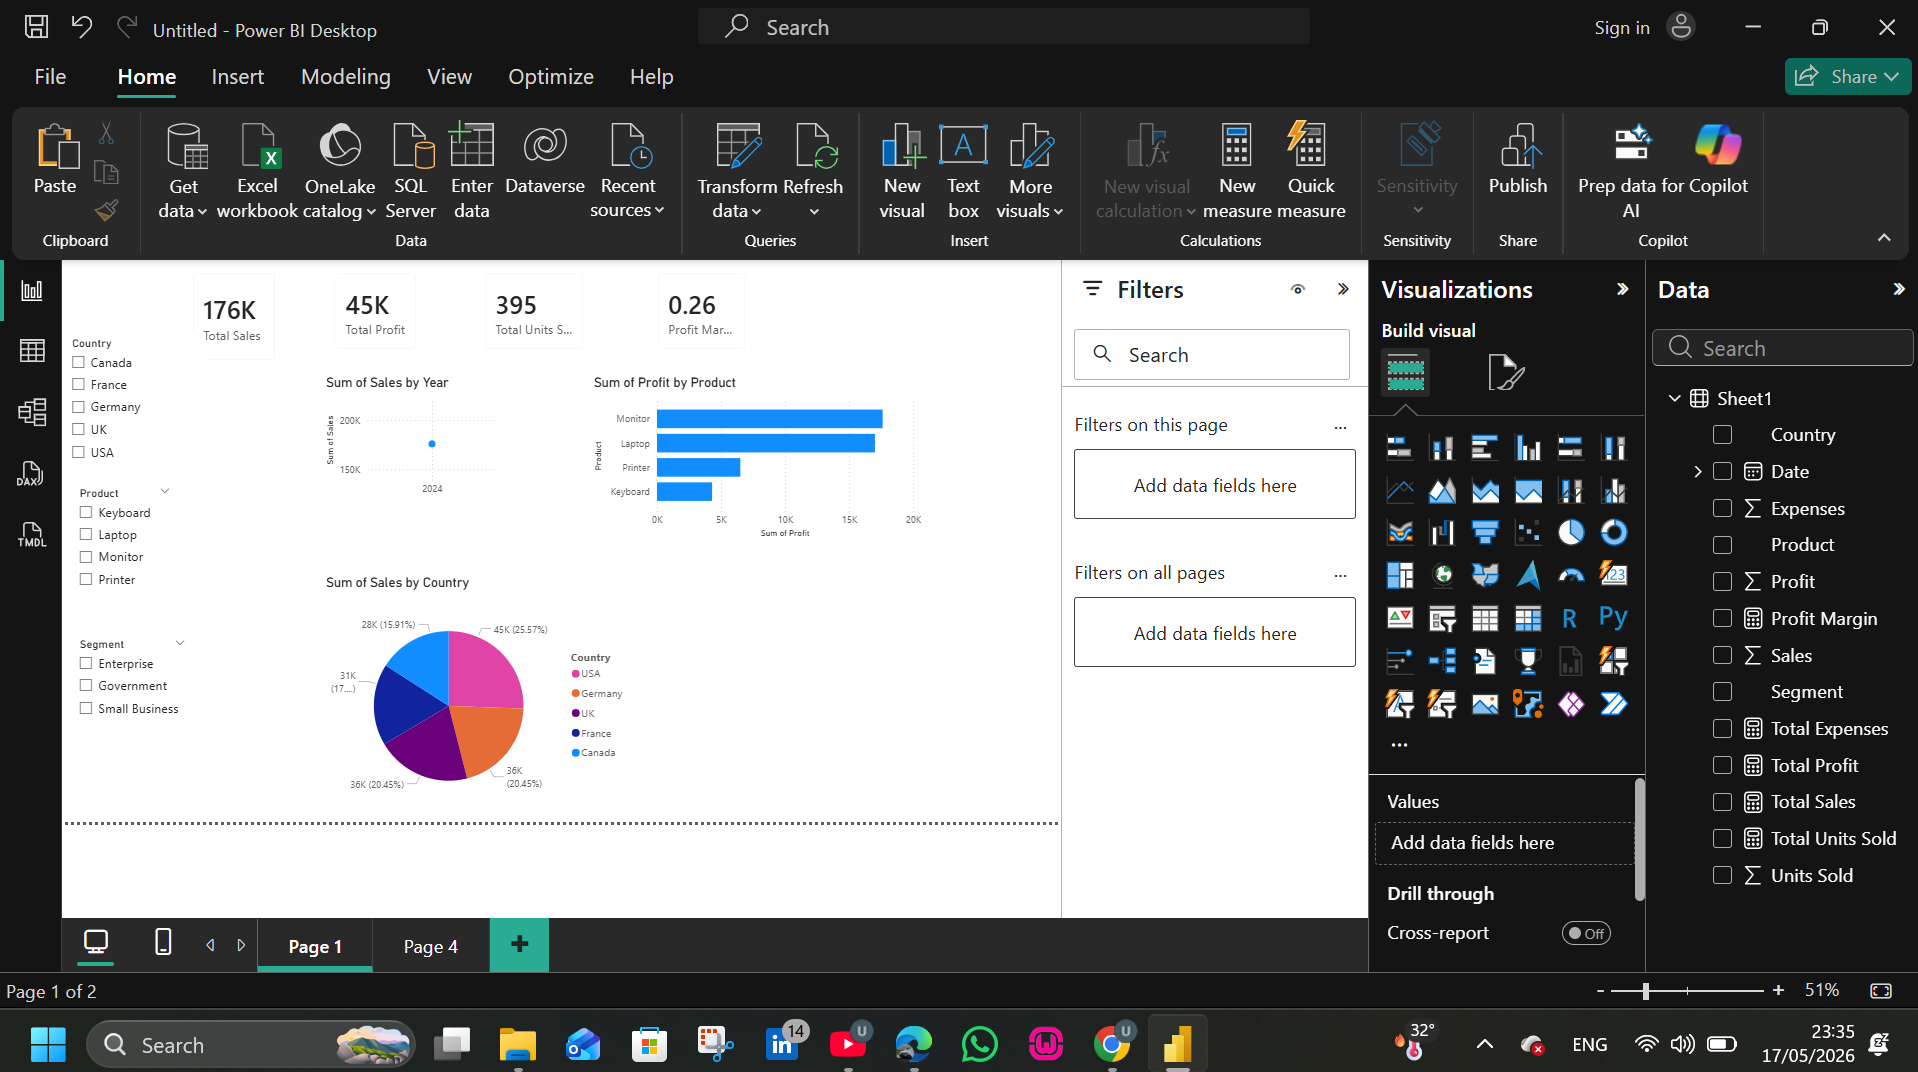

What the dashboard file says about the page in this screenshot:
{"tool":"powerbi","page":{"name":"Page 1","canvas":[1280,720],"ordinal":0},"visuals":[{"type":"cardVisual","fields":{"Data":["Sheet1.Total Sales"]},"box":[150.9,0,139.2,145.1],"z":0},{"type":"cardVisual","fields":{"Data":["Sheet1.Total Profit"]},"box":[333.3,0,137.2,131.3],"z":1000},{"type":"cardVisual","fields":{"Data":["Sheet1.Profit Margin"]},"box":[746.9,0,145.1,131.3],"z":2000},{"type":"cardVisual","fields":{"Data":["Sheet1.Total Units Sold"]},"box":[525.4,0,160.7,131.3],"z":3000},{"type":"lineChart","fields":{"Category":["Sheet1.Date.Variation.Date Hierarchy.Year","Sheet1.Date.Variation.Date Hierarchy.Quarter","Sheet1.Date.Variation.Date Hierarchy.Month","Sheet1.Date.Variation.Date Hierarchy.Day"],"Y":["Sum(Sheet1.Sales)"]},"box":[333.3,147,227.4,164.7],"z":4000},{"type":"clusteredBarChart","fields":{"Category":["Sheet1.Product"],"Y":["Sum(Sheet1.Profit)"]},"box":[676.3,147,429.3,213.7],"z":5000},{"type":"pieChart","fields":{"Category":["Sheet1.Country"],"Y":["Sum(Sheet1.Sales)"]},"box":[333.3,403.8,399.9,315.6],"z":6000},{"type":"slicer","fields":{"Values":["Sheet1.Country"]},"box":[0,92.1,184.3,219.6],"z":7000},{"type":"slicer","fields":{"Values":["Sheet1.Product"]},"box":[9.8,284.2,141.1,192.1],"z":8000},{"type":"slicer","fields":{"Values":["Sheet1.Segment"]},"box":[9.8,478.3,160.7,241.1],"z":9000}]}

Visuals, with their boxes on the page's 1280x720 design canvas (x1, y1, x2, y2). These are canvas units, not pixel positions in the 1918x1072 screenshot, which may show the page scaled, cropped or inside an application window:
cardVisual - Sheet1.Total Sales: x1=151, y1=0, x2=290, y2=145
cardVisual - Sheet1.Total Profit: x1=333, y1=0, x2=470, y2=131
cardVisual - Sheet1.Profit Margin: x1=747, y1=0, x2=892, y2=131
cardVisual - Sheet1.Total Units Sold: x1=525, y1=0, x2=686, y2=131
lineChart - Sheet1.Date.Variation.Date Hierarchy.Year x Sheet1.Date.Variation.Date Hierarchy.Quarter: x1=333, y1=147, x2=561, y2=312
clusteredBarChart - Sheet1.Product x Sum(Sheet1.Profit): x1=676, y1=147, x2=1106, y2=361
pieChart - Sheet1.Country x Sum(Sheet1.Sales): x1=333, y1=404, x2=733, y2=719
slicer - Sheet1.Country: x1=0, y1=92, x2=184, y2=312
slicer - Sheet1.Product: x1=10, y1=284, x2=151, y2=476
slicer - Sheet1.Segment: x1=10, y1=478, x2=170, y2=719
